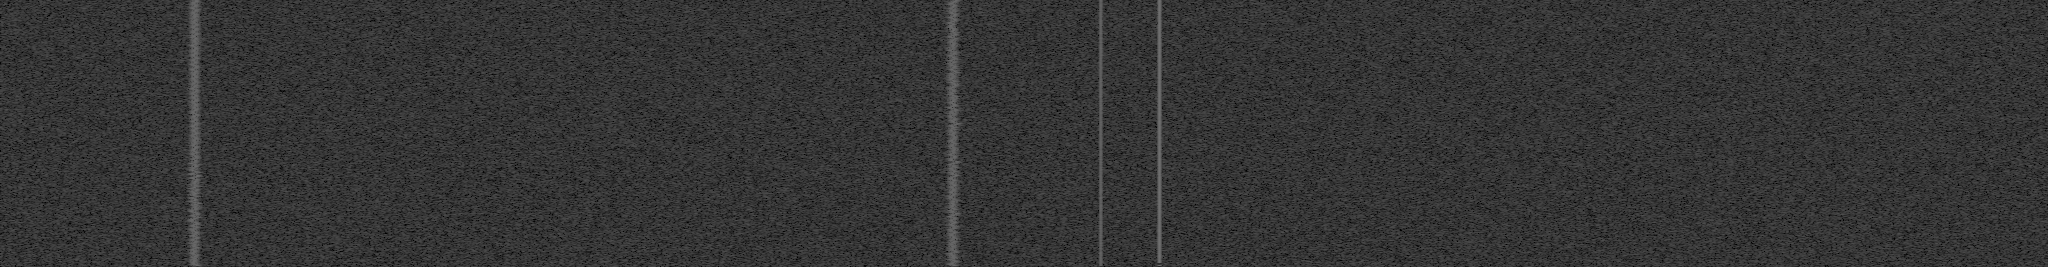wv_cw: (1098, 0, 1104, 266), (1157, 0, 1162, 263)
wv_wbfm: (184, 0, 206, 266), (942, 0, 964, 266)
